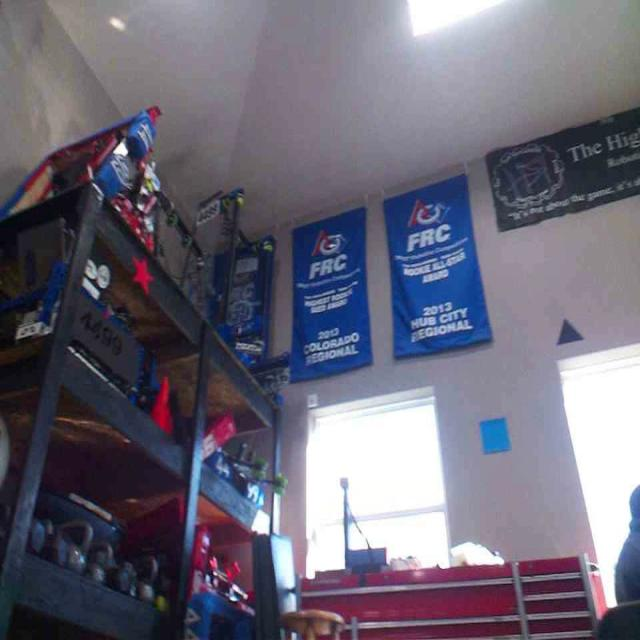square_blue: (478, 417, 512, 453)
star_red: (131, 253, 153, 295)
triangle_black: (556, 316, 582, 346)
